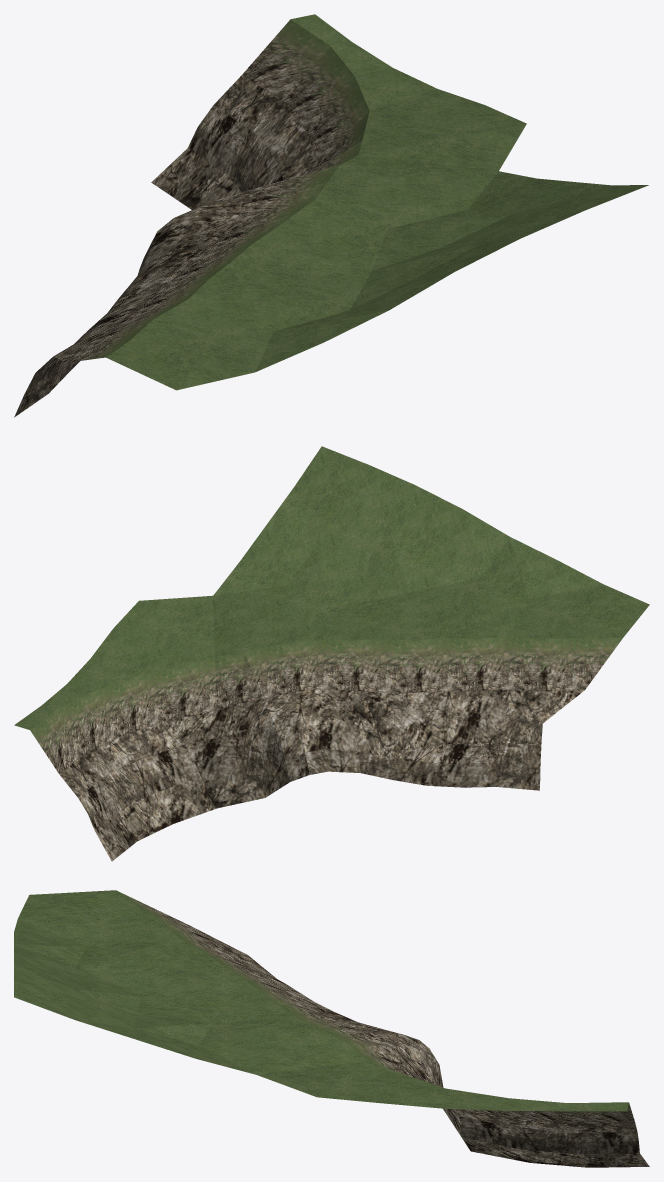
File: a_carisle_mid_landmass_02_08.fbx
3 renders of one model, top to bottom at view 1: azimuth 30°, elevation 25°; view 2: azimuth 150°, elevation 25°; view 3: azimuth 270°, elevation 25°, orthographic. The views are drawn at different scales.
Parts seen in each view (by area): view 1: a_carisle_mid_landmass_02_08; view 2: a_carisle_mid_landmass_02_08; view 3: a_carisle_mid_landmass_02_08.
Part boxes in pixels (<box>): a_carisle_mid_landmass_02_08: <box>14,14,648,417</box>; a_carisle_mid_landmass_02_08: <box>14,446,649,861</box>; a_carisle_mid_landmass_02_08: <box>14,890,649,1167</box>.
Size of the model in its own units: 17.06 by 21.37 by 7.8.
